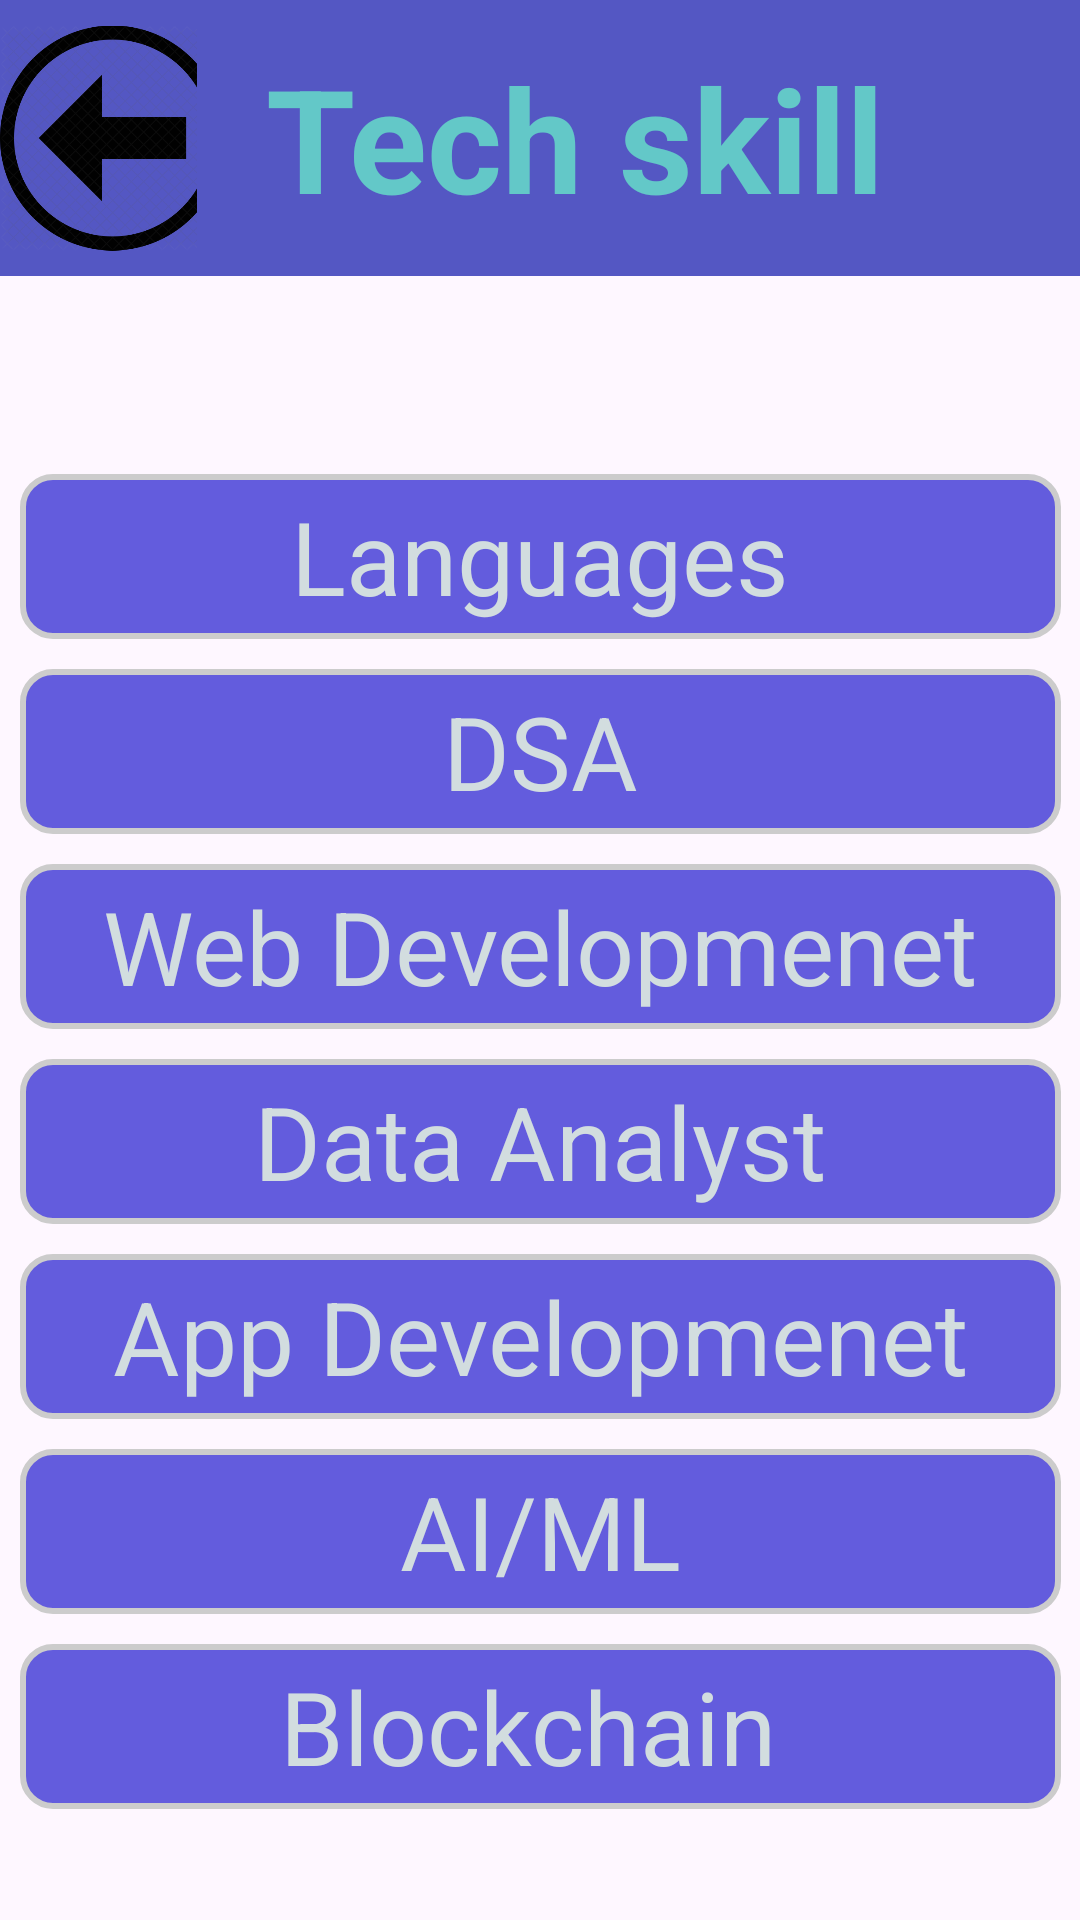

Locate icon controls on the screen. Image size 1080*1920, boxes as [x1,y1,x2,y2].
back: [0,26,197,251]
